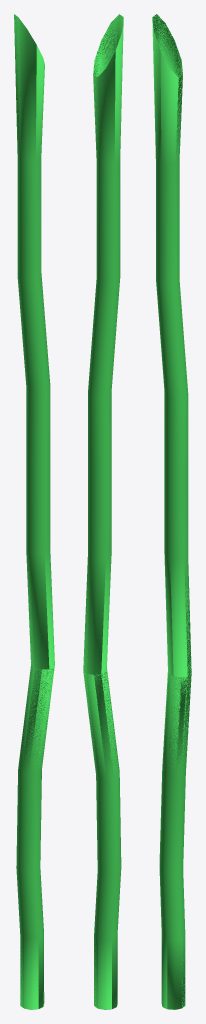
Rendered from BambooNoLeafs.fbx.
3 views of the same model, side by side, from view 1: azimuth 30°, elevation 25°; view 2: azimuth 210°, elevation 25°; view 3: azimuth 330°, elevation 25° (orthographic).
Parts seen in each view (by area): view 1: Circle; view 2: Circle; view 3: Circle.
Part boxes in pixels (left/top/right/bottom): Circle: left=14, top=14, right=54, bottom=1009; Circle: left=83, top=14, right=123, bottom=1009; Circle: left=152, top=14, right=191, bottom=1009.
Size of the model in its own units: 256 by 6750 by 203.
